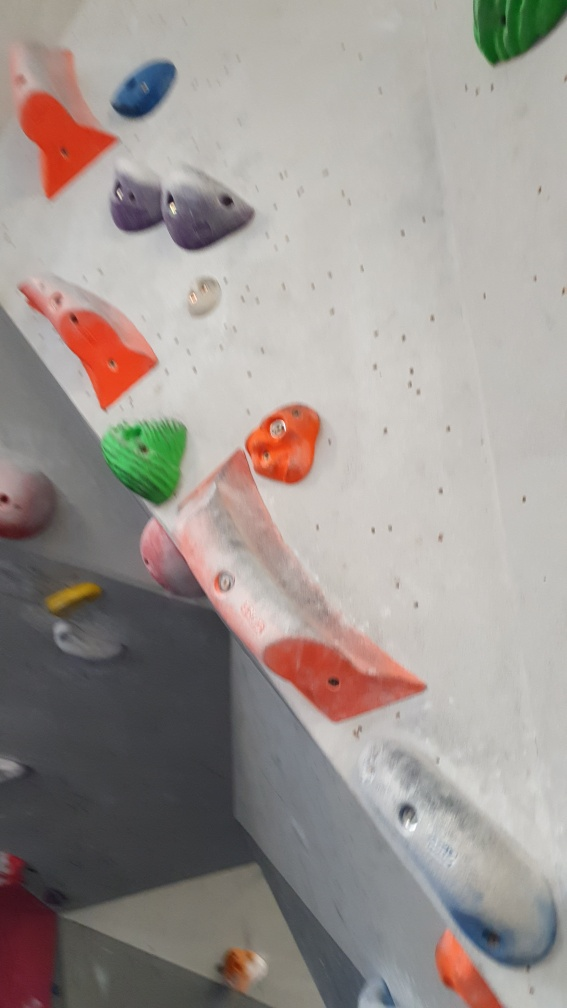Jug: (160, 155, 256, 252), (100, 417, 190, 507), (243, 401, 324, 485), (107, 154, 163, 235)
Pinch: (167, 450, 431, 721), (359, 731, 561, 970), (19, 269, 159, 412), (10, 38, 122, 207)
Sloper: (137, 511, 206, 601), (1, 462, 62, 540)
